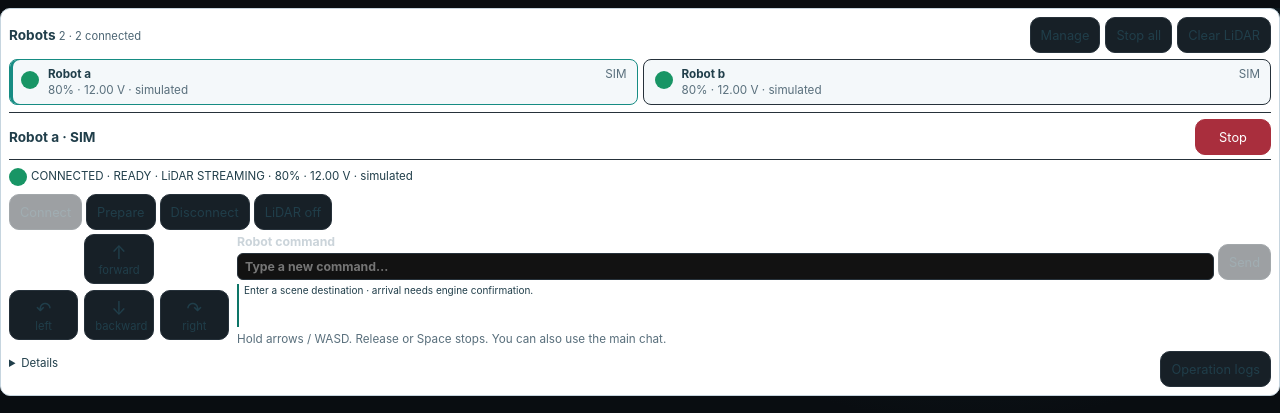
Test: robot fleet controls (supplementary UI tests) › does not erase a newer draft on late ACK: Go to the nearest chair
Type "Go to the nearest bed" into the field labelled "Robot command" at [725, 266], box [237, 253, 1214, 280]
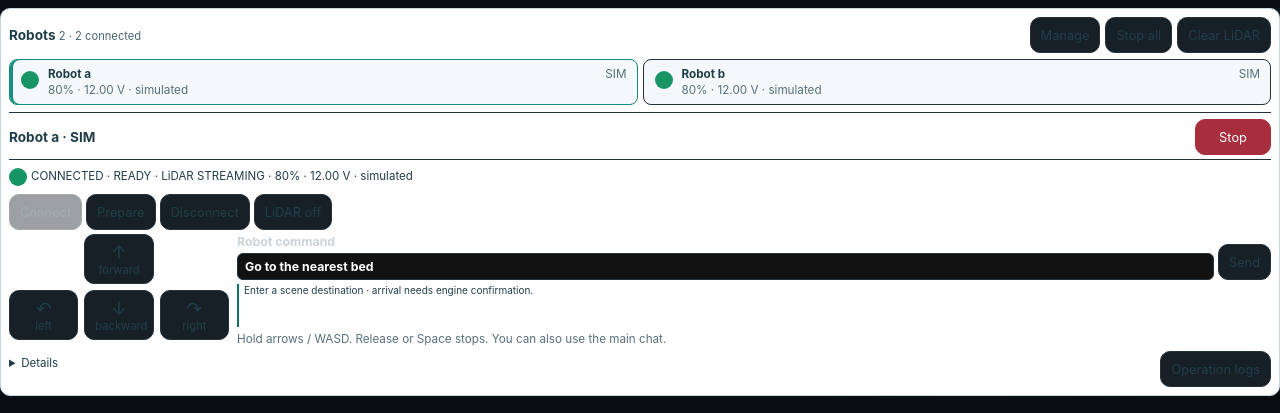
Submit the form labelled "Robot command", box [237, 234, 1271, 347]
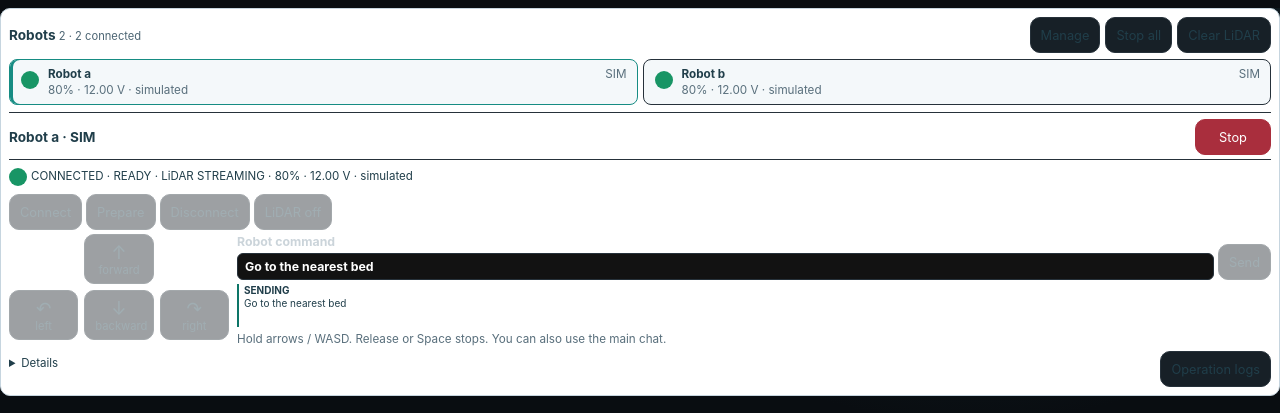
Replace the text in the field labelled "Robot command" with "Go to the nearest chair" at [725, 266], box [237, 253, 1214, 280]
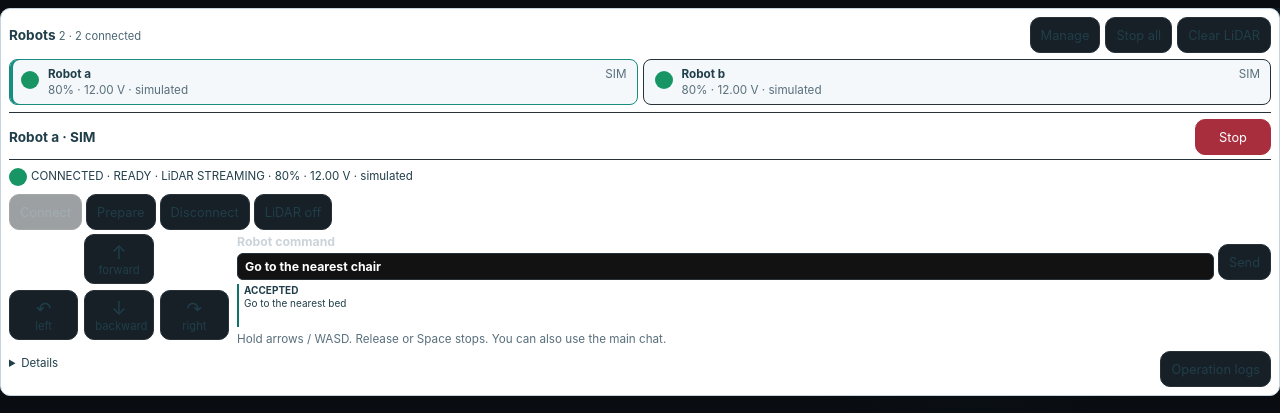
Expected: the element named "Robot command progress" shows "ACCEPTED", [244, 284, 298, 296]
